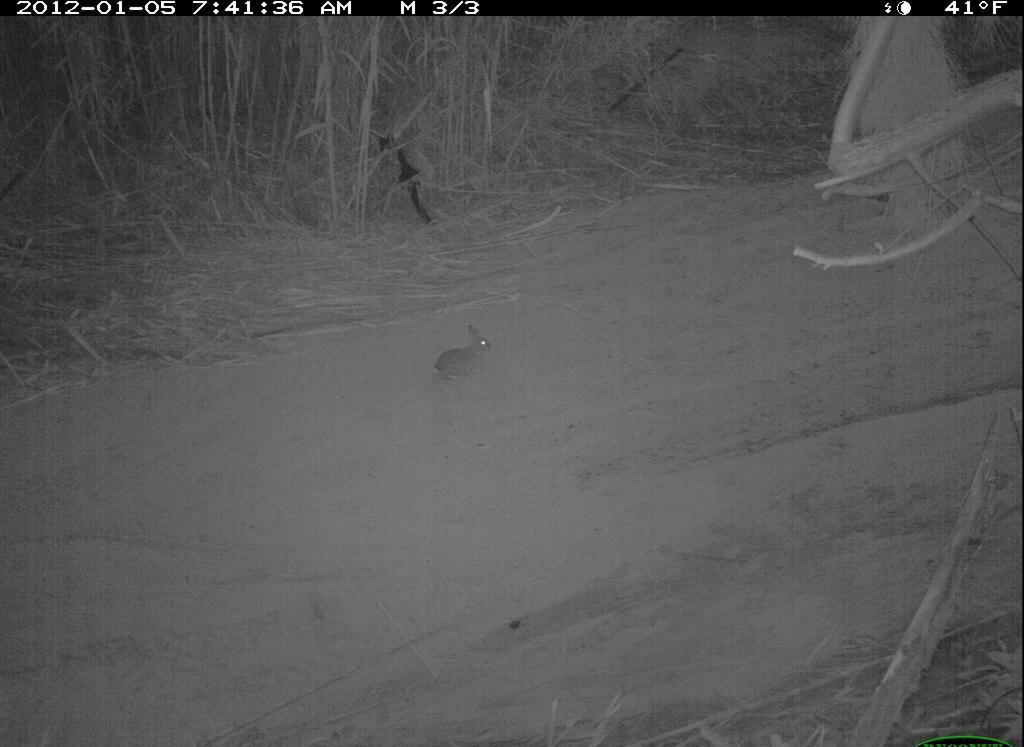rabbit: (429, 299, 504, 395)
